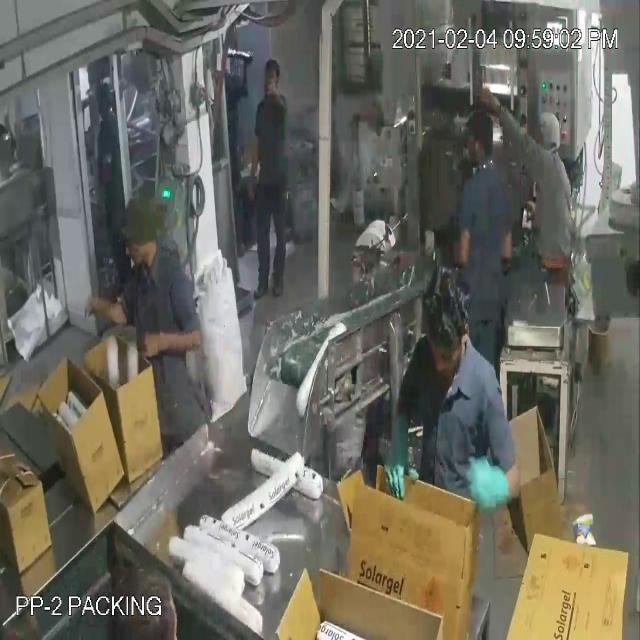No_Gloves: (26, 58, 484, 482)
